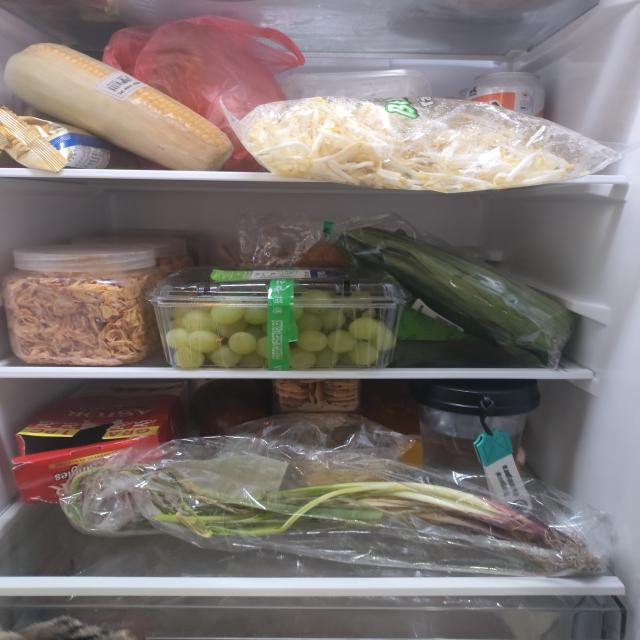bean_sprouts: (247, 95, 574, 194)
corn: (4, 42, 236, 172)
grape: (165, 285, 398, 369)
leafy_greens: (332, 226, 576, 369)
spring_onion: (58, 461, 595, 574)
